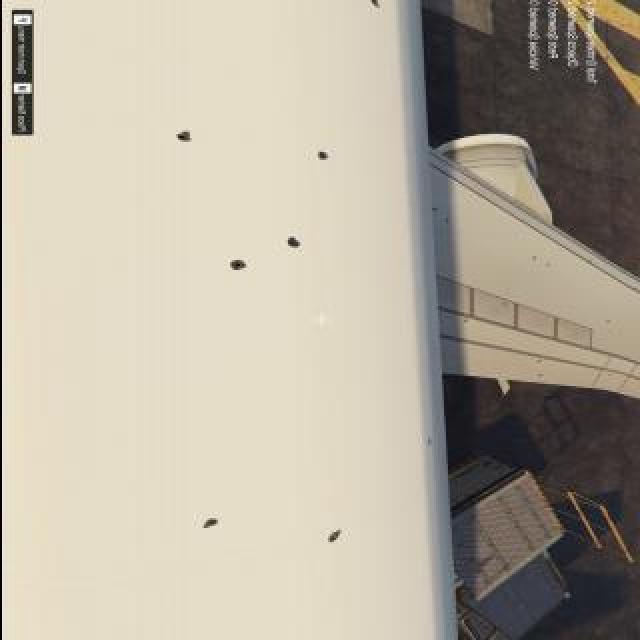crack: (323, 529, 343, 545), (224, 261, 248, 273), (281, 236, 305, 248), (175, 128, 193, 144), (200, 517, 218, 531), (314, 150, 330, 162), (440, 218, 456, 226), (425, 437, 435, 447), (428, 204, 440, 212), (537, 374, 543, 380), (531, 257, 539, 261), (501, 303, 509, 307), (460, 320, 468, 324), (533, 360, 541, 364), (544, 263, 552, 267), (604, 320, 612, 324), (607, 374, 615, 378)
